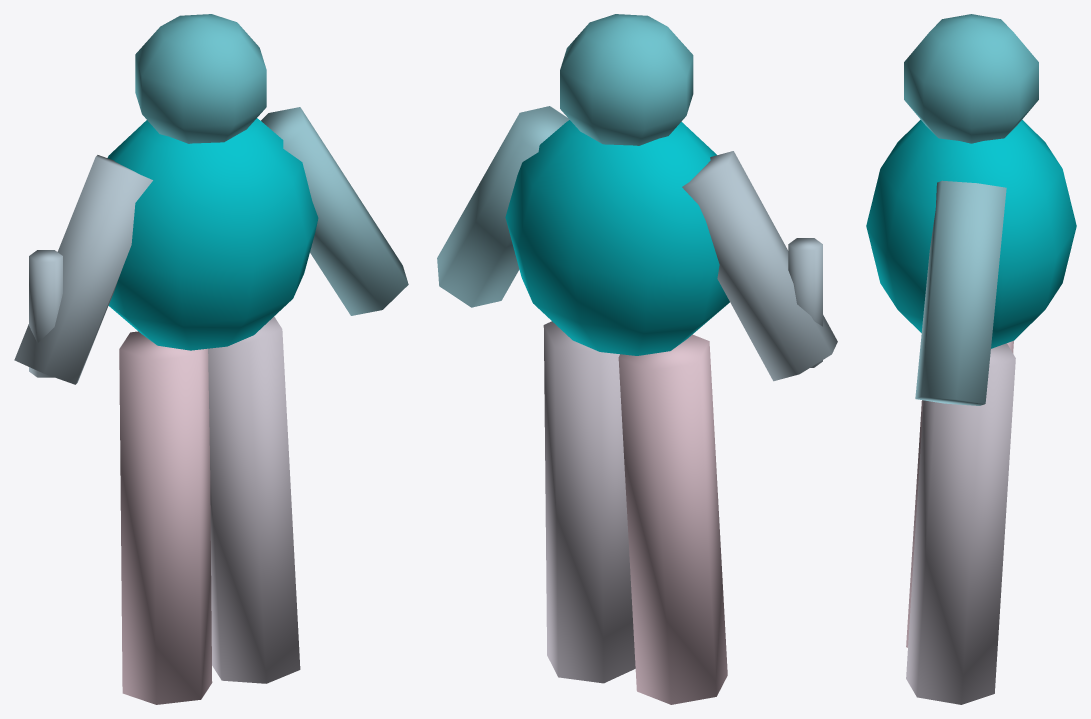
The model's file is dancer.glb.
3 renders of one model, left to right at view 1: azimuth 30°, elevation 25°; view 2: azimuth 150°, elevation 25°; view 3: azimuth 270°, elevation 25°, orthographic. The views are drawn at different scales.
Parts seen in each view (by area): view 1: dancer; view 2: dancer; view 3: dancer.
Boxes of the visible parts, x1,y1,x2,y2 form: dancer: [14, 14, 408, 704]; dancer: [437, 14, 837, 704]; dancer: [866, 14, 1076, 704].
Bounding box in the file's own units: 1.06 × 1.7 × 0.5.
